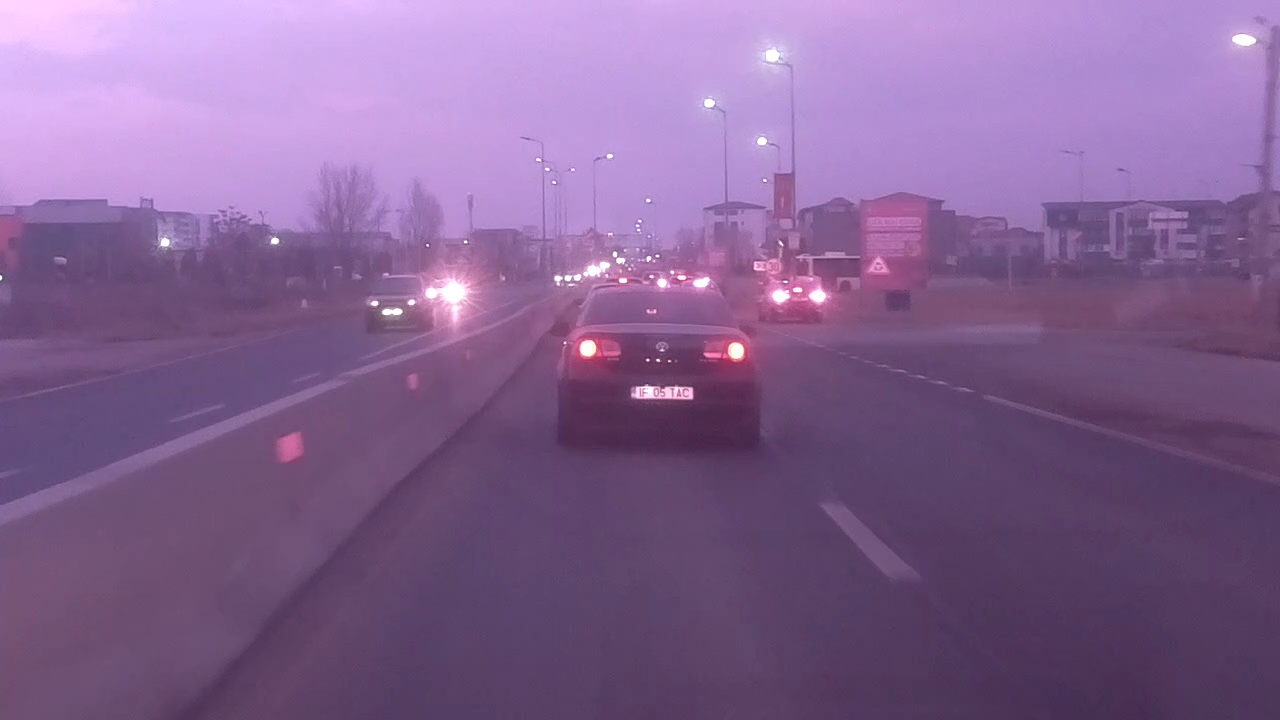license-plate: (628, 384, 696, 402)
